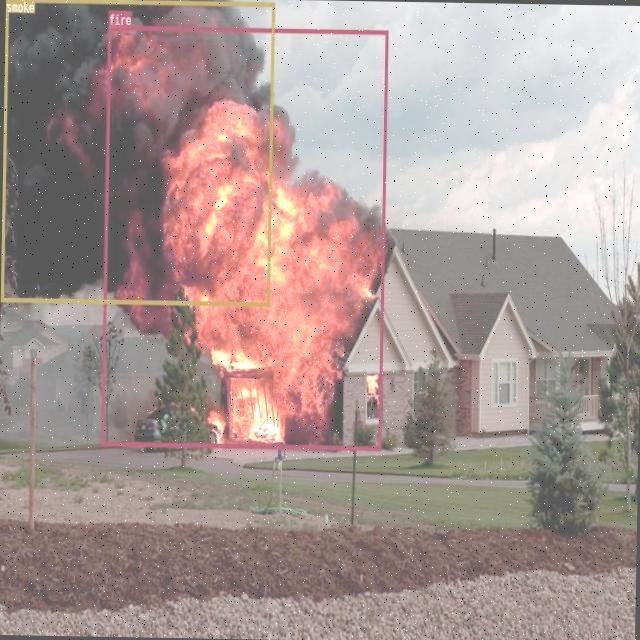fire: (100, 24, 387, 449)
smoke: (0, 0, 274, 305)
